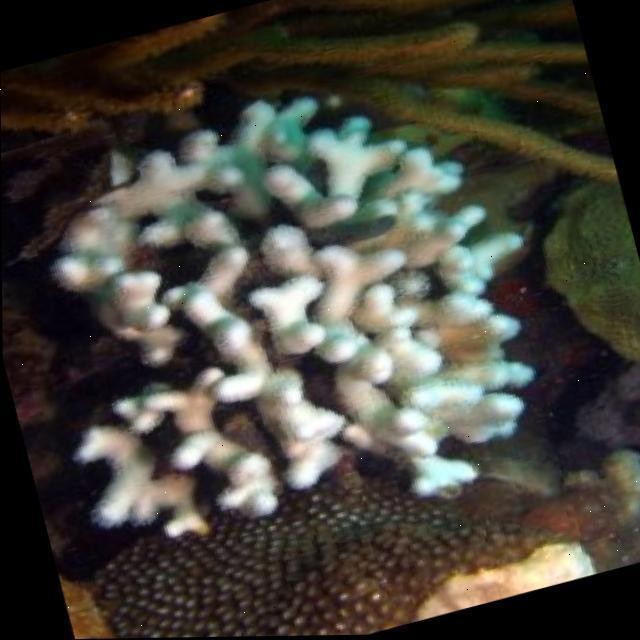Bleached Coral: (61, 99, 554, 539)
